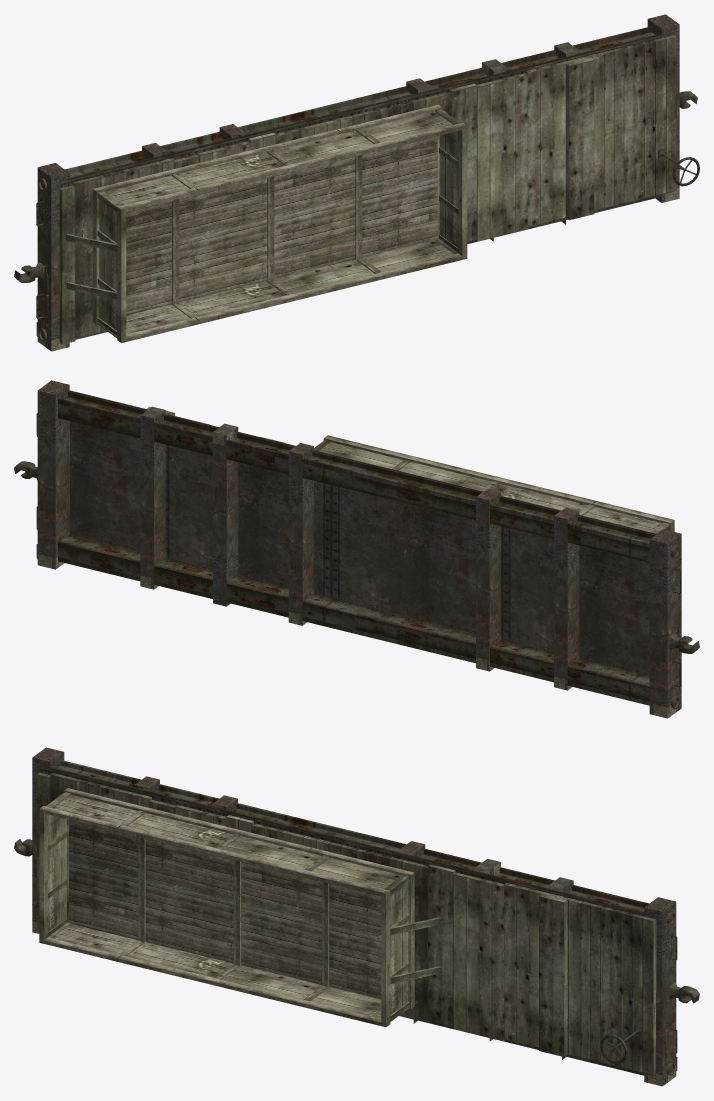
Rendered from prop_traincar_flathalfbox.glb.
3 views of the same model, one above another, from view 1: azimuth 30°, elevation 25°; view 2: azimuth 150°, elevation 25°; view 3: azimuth 330°, elevation 25° (orthographic).
Bounding box in the file's own units: 397 × 97.54 × 45.97.
Materials: 1 (1 with a texture image).
